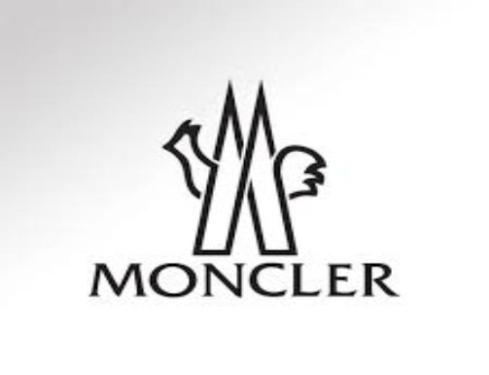MONCLER: (160, 77, 327, 257), (81, 259, 401, 305)
